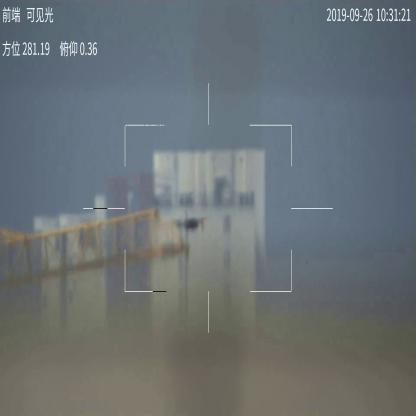uav: (170, 214, 208, 232)
